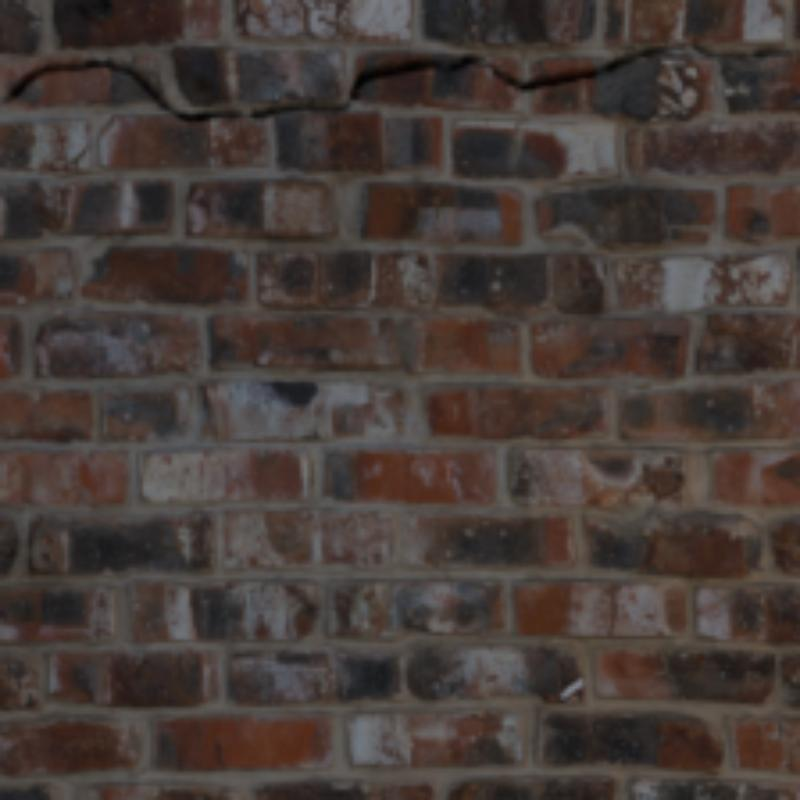pothole: (0, 39, 796, 118)
